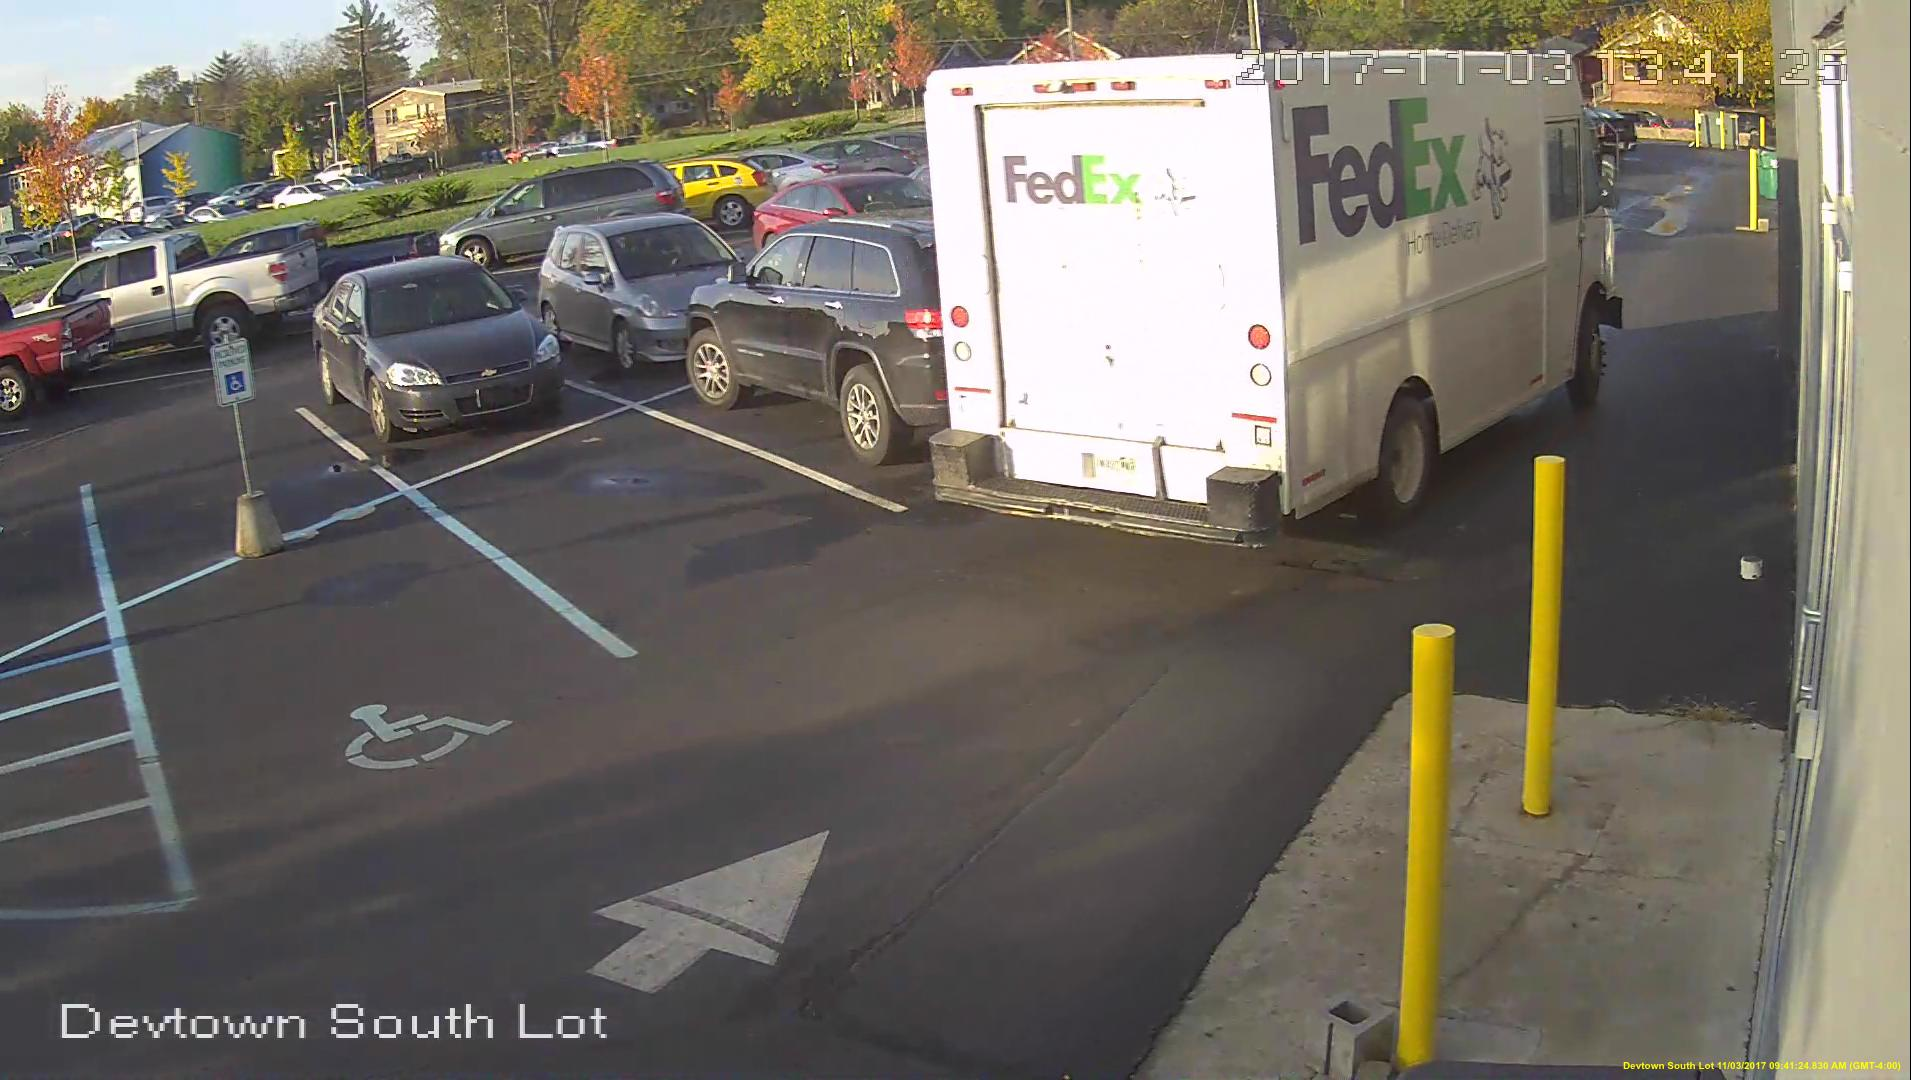fedex_truck: (913, 50, 1631, 551)
